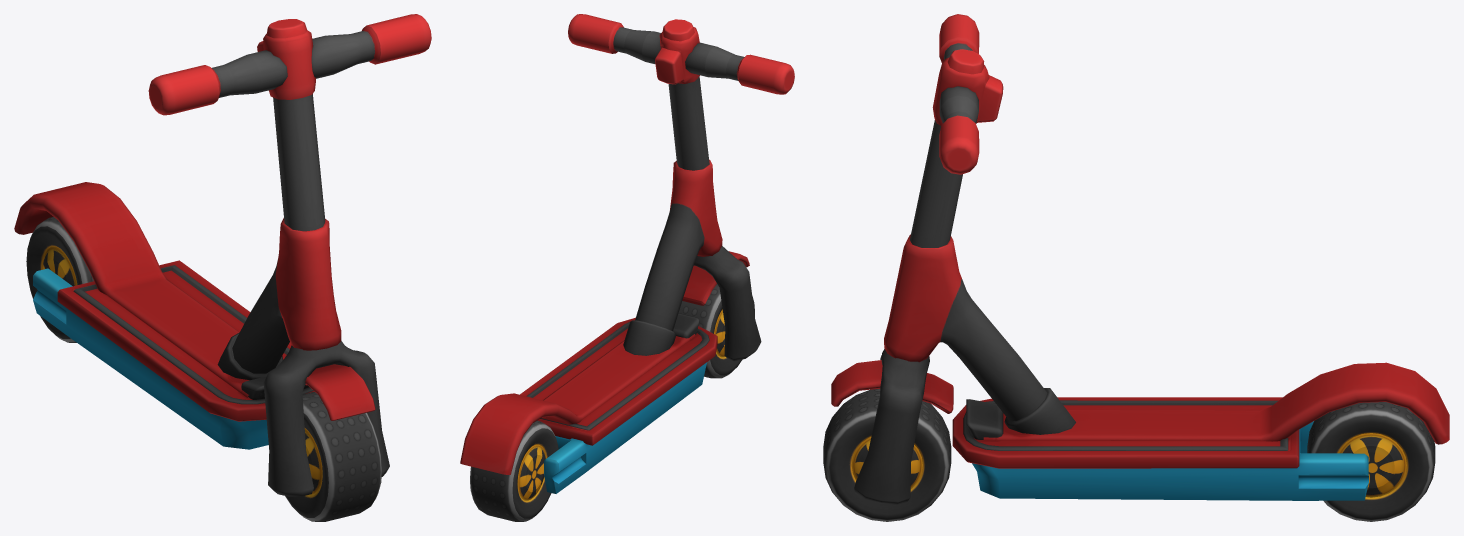
Rendered from Scooter.fbx.
3 views of the same model, side by side, from view 1: azimuth 30°, elevation 25°; view 2: azimuth 150°, elevation 25°; view 3: azimuth 270°, elevation 25° (orthographic). The views are drawn at different scales.
Visible parts, largest first — view 1: Scooter, Tay_Lai, Banh_Truoc, Banh_Sau; view 2: Scooter, Tay_Lai, Banh_Sau, Banh_Truoc; view 3: Scooter, Tay_Lai, Banh_Sau, Banh_Truoc.
Part boxes in pixels (x1,y1,x2,y2): Scooter: [14, 182, 341, 449]; Tay_Lai: [148, 14, 431, 496]; Banh_Truoc: [285, 391, 381, 521]; Banh_Sau: [26, 217, 93, 342]; Scooter: [460, 159, 722, 493]; Tay_Lai: [568, 14, 794, 361]; Banh_Sau: [470, 420, 558, 521]; Banh_Truoc: [678, 284, 754, 378]; Scooter: [884, 234, 1449, 500]; Tay_Lai: [831, 14, 1003, 504]; Banh_Sau: [1307, 402, 1435, 521]; Banh_Truoc: [823, 389, 951, 521].
Bounding box in the file's own units: 7.35 × 12.1 × 14.98.
